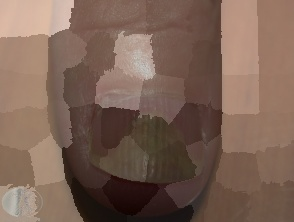Nail_psoriasis: (77, 96, 214, 222)
